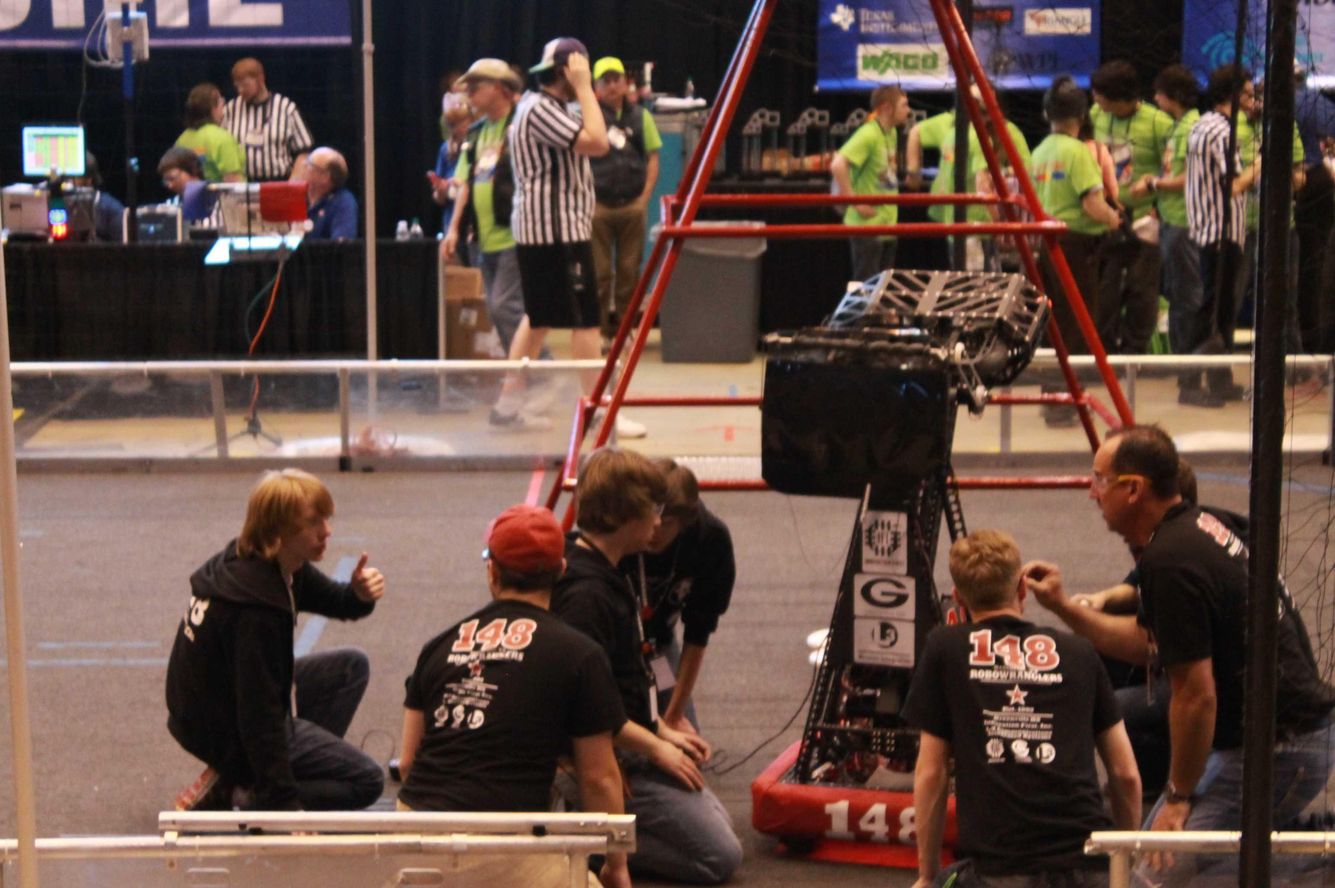robot: (741, 259, 1061, 868)
